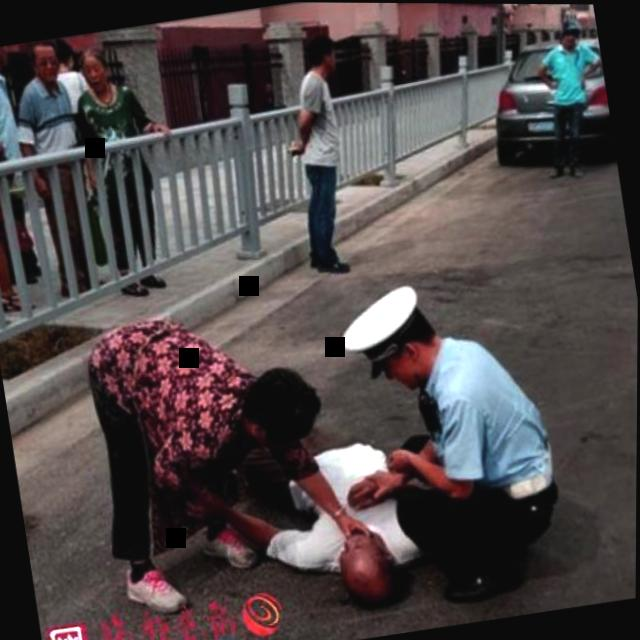Fall-Detected: (204, 403, 458, 628)
